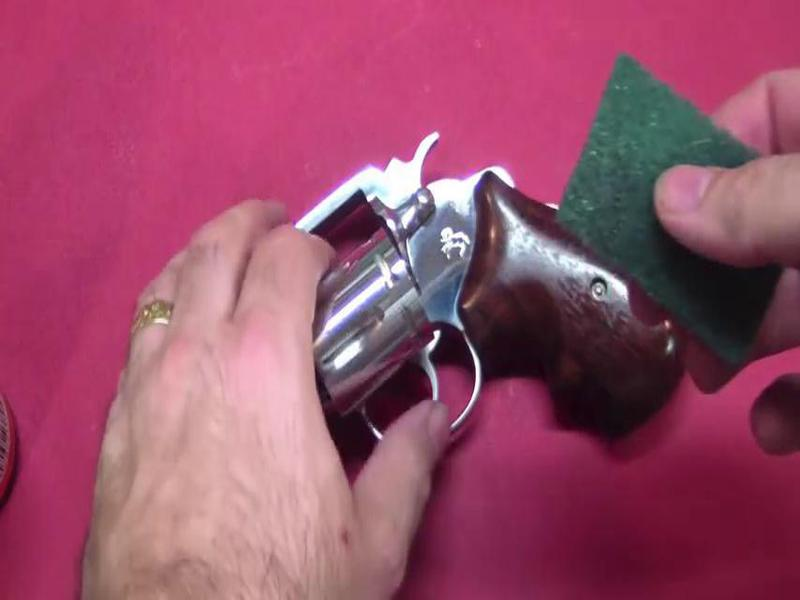Revolver: (276, 132, 717, 443)
